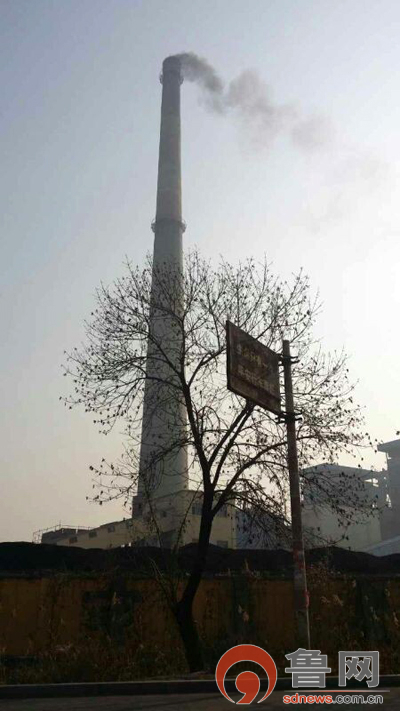dust: (156, 39, 310, 129)
